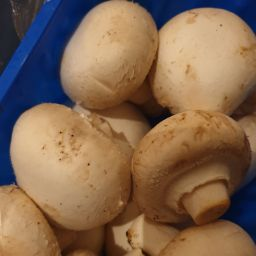Mushrooms: (3, 94, 144, 256), (125, 93, 256, 256), (47, 3, 175, 117), (152, 8, 256, 122)
